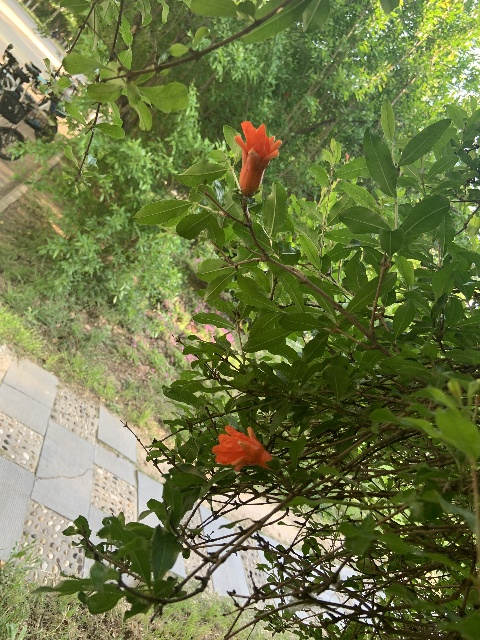flower: (234, 120, 282, 195), (211, 424, 273, 472)
